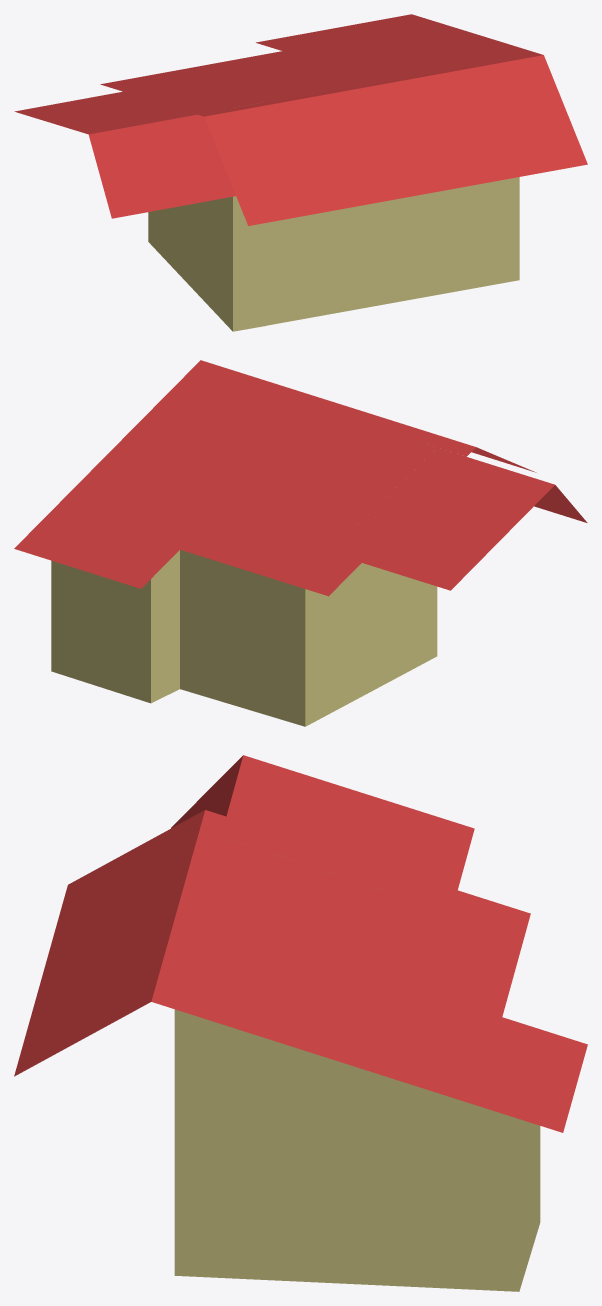
The picture shows the model from 3 angles, top to bottom: view 1: azimuth 30°, elevation 25°; view 2: azimuth 150°, elevation 25°; view 3: azimuth 270°, elevation 25°; orthographic projection. The views are drawn at different scales.
Bounding box in the file's own units: 16.21 × 14.21 × 7.72.
